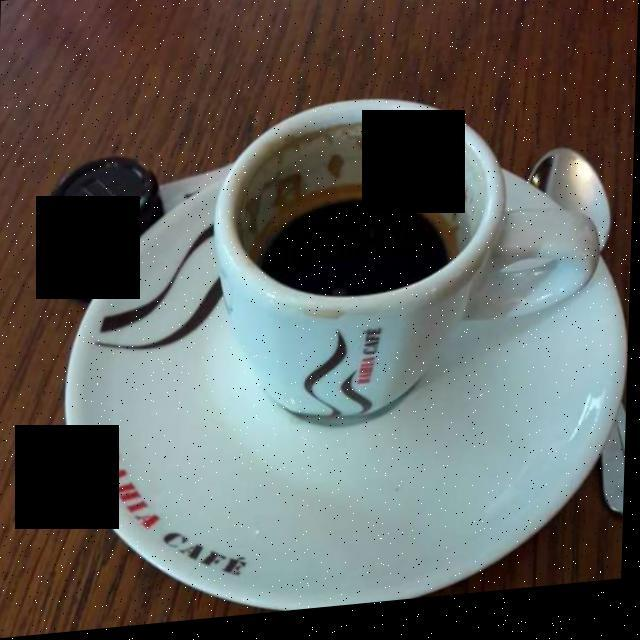espresso: (254, 194, 458, 301)
